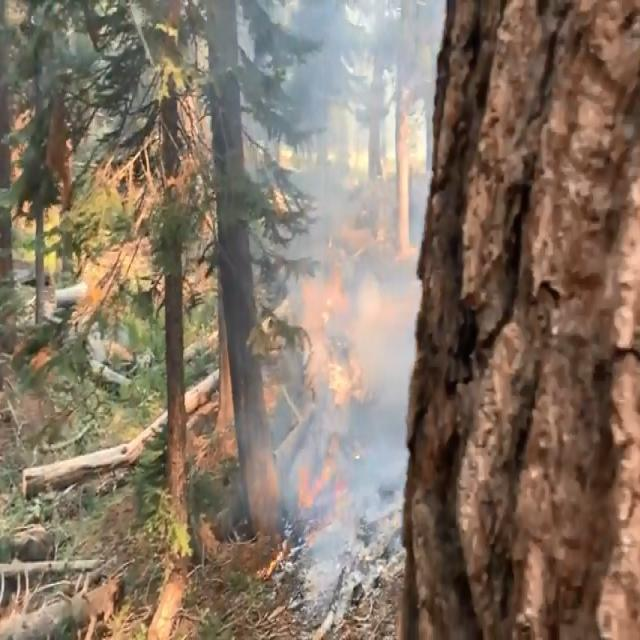Fire: (270, 202, 408, 554)
